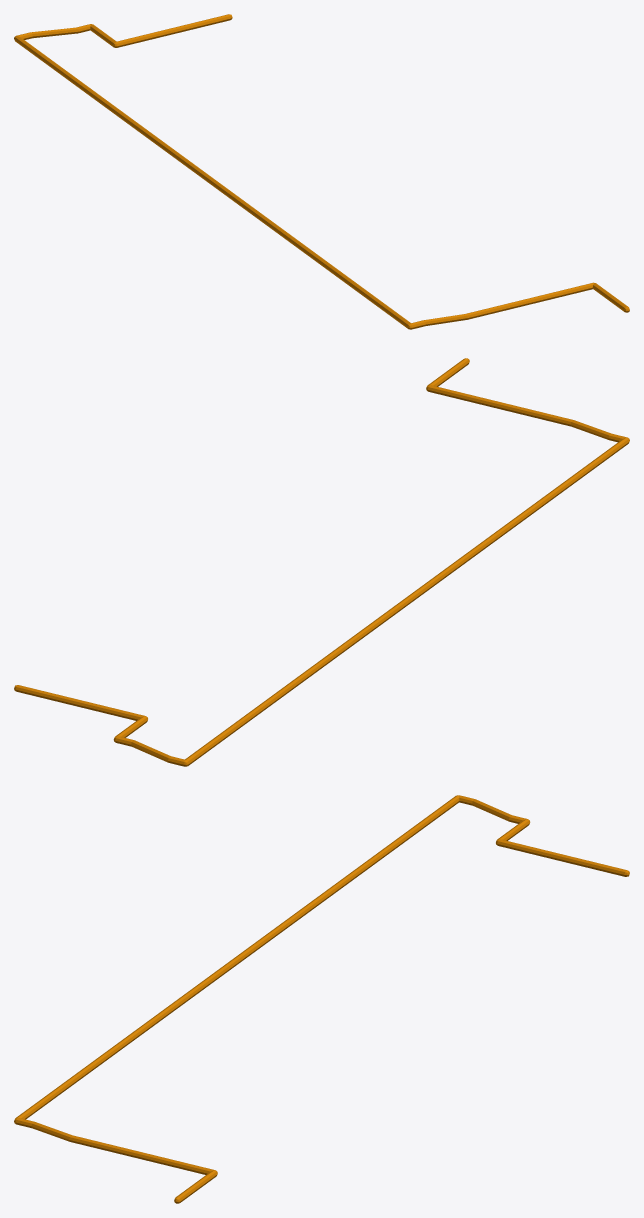
3 renders of one model, top to bottom at view 1: azimuth 30°, elevation 25°; view 2: azimuth 150°, elevation 25°; view 3: azimuth 330°, elevation 25°, orthographic. The views are drawn at different scales.
Size of the model in its own units: 658 by 20 by 2644.
